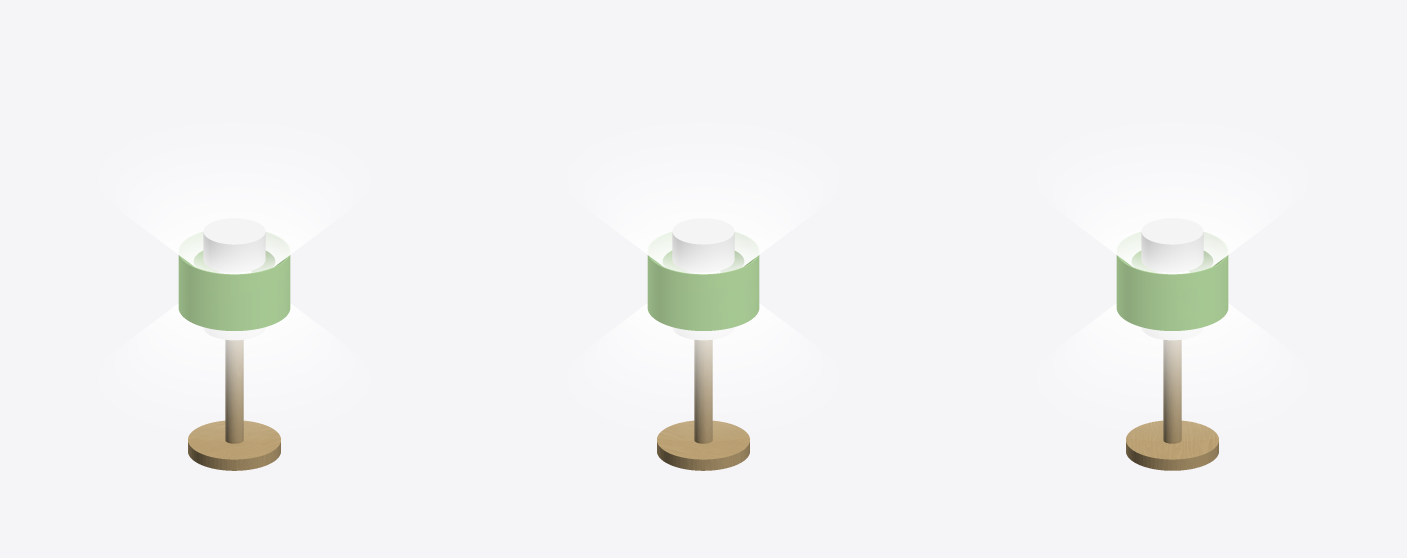
File: GREEN_ON.glb
3 renders of one model, left to right at view 1: azimuth 30°, elevation 25°; view 2: azimuth 150°, elevation 25°; view 3: azimuth 270°, elevation 25°, orthographic.
Parts seen in each view (by area): view 1: LIGHT_UP, LIGHT_DOWN, SHELL, BASE, INNER_TOP; view 2: LIGHT_UP, LIGHT_DOWN, SHELL, BASE, INNER_TOP; view 3: LIGHT_UP, LIGHT_DOWN, SHELL, BASE, INNER_TOP.
Part boxes in pixels (<box>): LIGHT_UP: <box>115,143,353,274</box>; LIGHT_DOWN: <box>115,303,353,414</box>; SHELL: <box>178,232,290,330</box>; BASE: <box>188,340,280,470</box>; INNER_TOP: <box>203,218,265,272</box>; LIGHT_UP: <box>584,143,822,274</box>; LIGHT_DOWN: <box>584,303,822,414</box>; SHELL: <box>647,232,759,330</box>; BASE: <box>657,340,749,470</box>; INNER_TOP: <box>672,218,734,272</box>; LIGHT_UP: <box>1053,143,1291,274</box>; LIGHT_DOWN: <box>1053,303,1291,414</box>; SHELL: <box>1116,232,1228,330</box>; BASE: <box>1126,340,1218,470</box>; INNER_TOP: <box>1141,218,1203,272</box>.
Size of the model in its own units: 0.7082 by 0.6108 by 0.7082.
4 materials, 4 textured.
